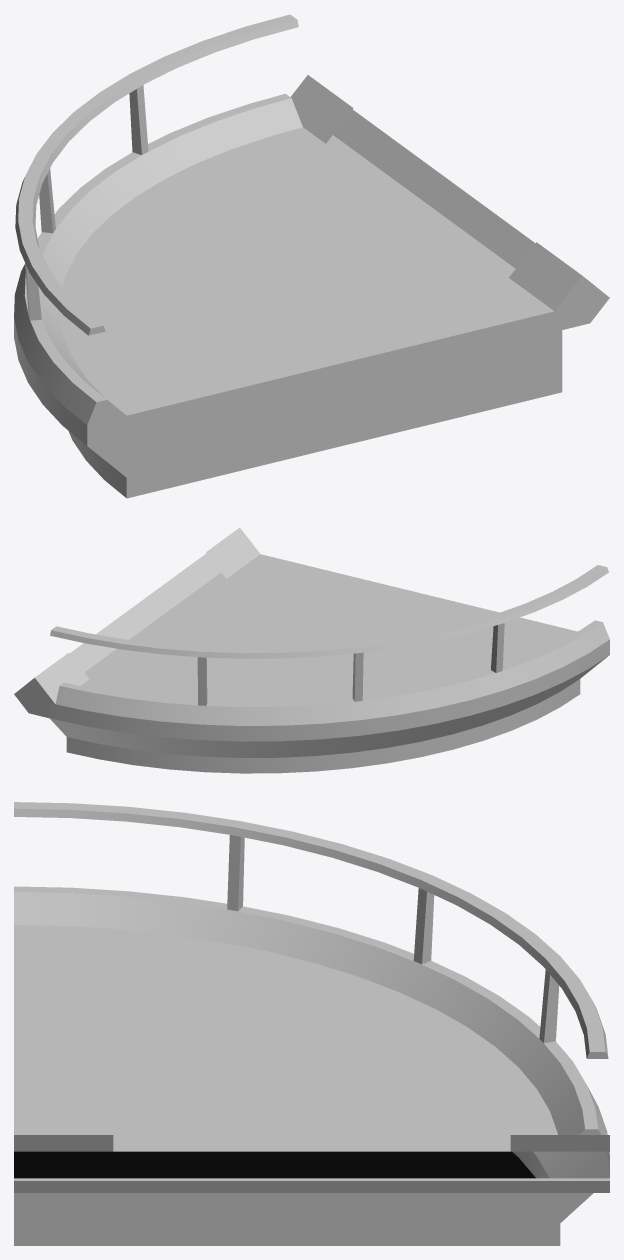
File: Plateform_Angle_01.FBX
3 views of the same model, one above another, from view 1: azimuth 30°, elevation 25°; view 2: azimuth 150°, elevation 25°; view 3: azimuth 270°, elevation 25° (orthographic). The views are drawn at different scales.
Parts seen in each view (by area): view 1: Plateform_Angle_01, Floor; view 2: Plateform_Angle_01, Floor; view 3: Floor, Plateform_Angle_01, Bottom.
Part boxes in pixels (x1,y1,x2,y2): Plateform_Angle_01: (14, 14, 609, 498); Floor: (59, 127, 553, 415); Plateform_Angle_01: (14, 527, 609, 773); Floor: (81, 554, 577, 703); Floor: (14, 925, 557, 1151); Plateform_Angle_01: (14, 802, 609, 1245); Bottom: (14, 1151, 535, 1178).
Bounding box in the file's own units: 6.6 × 2.15 × 6.
